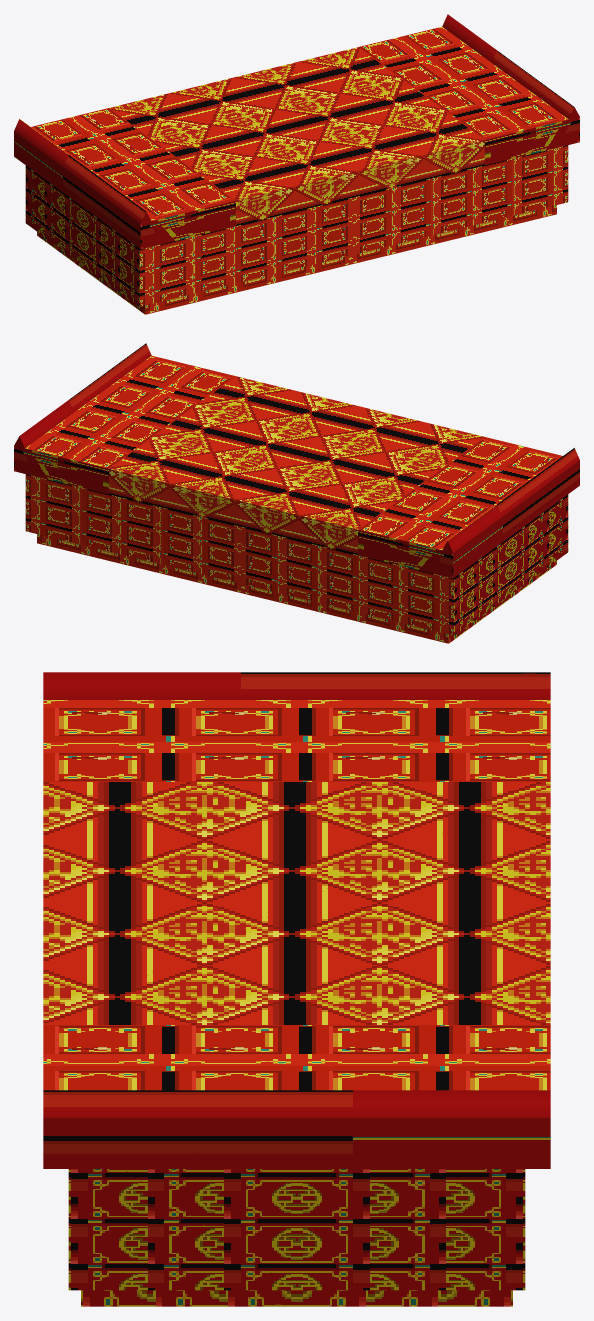
File: 3642kg_case_09.gltf
The picture shows the model from 3 angles, top to bottom: view 1: azimuth 30°, elevation 25°; view 2: azimuth 150°, elevation 25°; view 3: azimuth 270°, elevation 25°; orthographic projection. The views are drawn at different scales.
Visible parts, largest first — view 1: 3642kg_case_09; view 2: 3642kg_case_09; view 3: 3642kg_case_09.
Boxes of the visible parts, bbox=[...] form: 3642kg_case_09: bbox=[14, 14, 579, 314]; 3642kg_case_09: bbox=[14, 343, 579, 643]; 3642kg_case_09: bbox=[43, 672, 550, 1306].
Size of the model in its own units: 2 by 0.4883 by 1.
3 materials, 3 textured.
